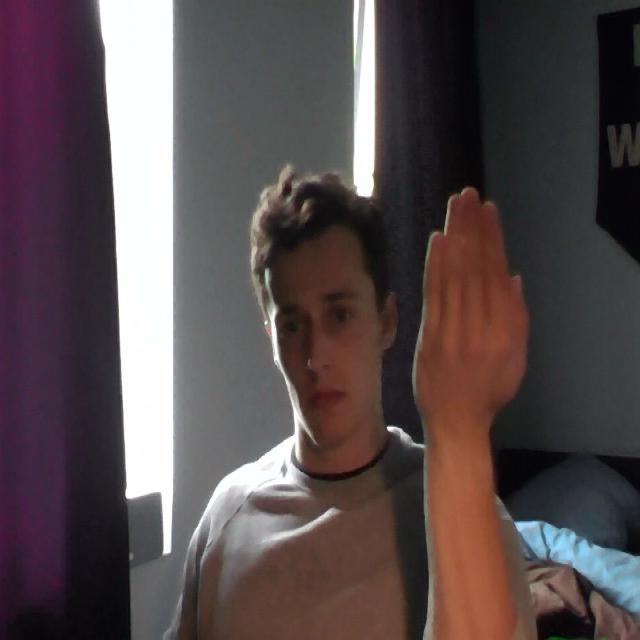forward: (407, 181, 536, 436)
